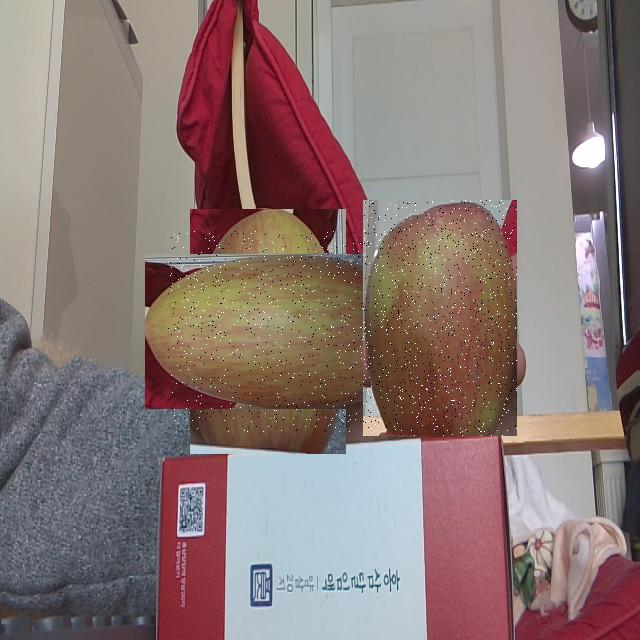apple: (168, 231, 368, 432), (363, 200, 517, 436)
